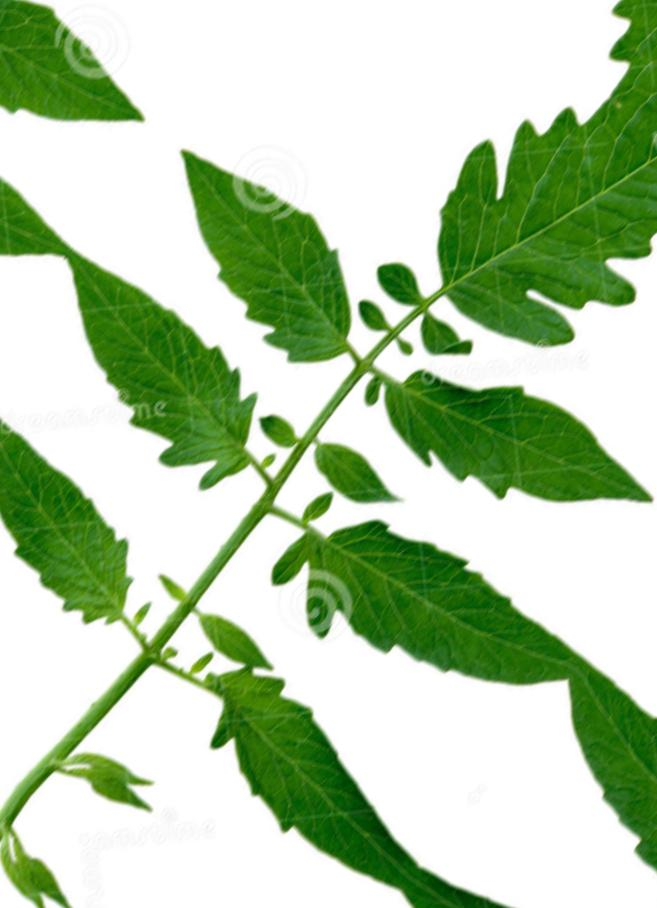Tomato leaf: (264, 459, 604, 784), (328, 294, 657, 625), (0, 224, 337, 540), (370, 45, 657, 414), (131, 618, 470, 908), (112, 104, 412, 388), (0, 356, 228, 686)
